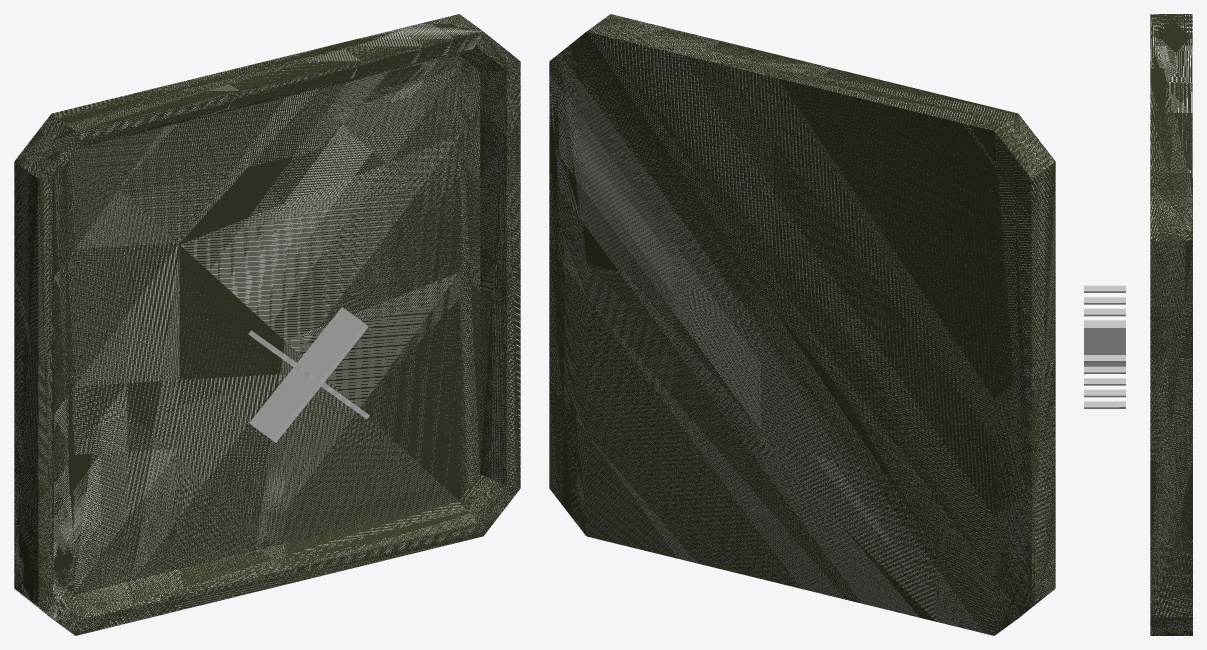
The model's file is CM_-_Crossing.obj.
3 renders of one model, left to right at view 1: azimuth 30°, elevation 25°; view 2: azimuth 150°, elevation 25°; view 3: azimuth 270°, elevation 25°, orthographic. The views are drawn at different scales.
Parts seen in each view (by area): view 1: Button.001_ID13, Button_ID3, SM_CM_-_Crossing_path1763-2.079; view 2: Button_ID3; view 3: Button_ID3, SM_CM_-_Crossing_path1763-2.079.
Part boxes in pixels (box(x1,y1,x2,y2)): Button.001_ID13: box(52, 47, 506, 619); Button_ID3: box(14, 14, 520, 635); SM_CM_-_Crossing_path1763-2.079: box(248, 307, 369, 442); Button_ID3: box(549, 14, 1055, 635); Button_ID3: box(1150, 14, 1192, 635); SM_CM_-_Crossing_path1763-2.079: box(1084, 285, 1125, 408).
Size of the model in its own units: 1 by 1 by 0.2211.
